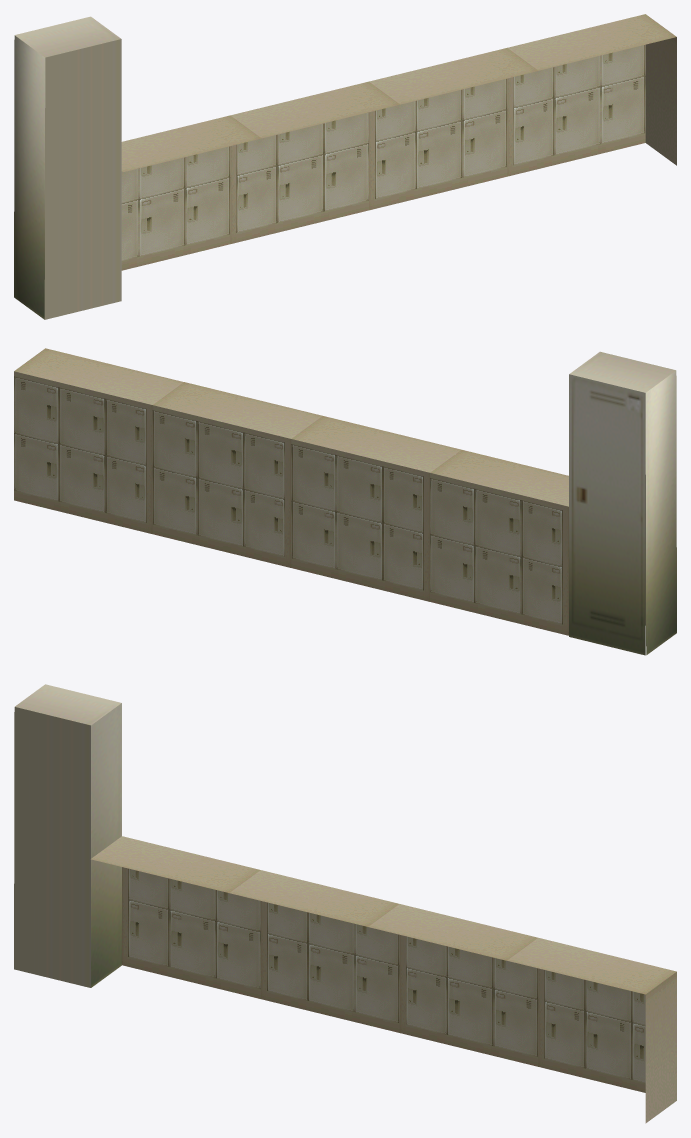
3 renders of one model, top to bottom at view 1: azimuth 30°, elevation 25°; view 2: azimuth 150°, elevation 25°; view 3: azimuth 330°, elevation 25°, orthographic.
Visible parts, largest first — view 1: store_shelf, store1; view 2: store_shelf, store1; view 3: store_shelf, store1.
Part boxes in pixels (left/top/right/bottom): store_shelf: left=121, top=14, right=676, bottom=270; store1: left=14, top=16, right=121, bottom=319; store_shelf: left=14, top=348, right=568, bottom=635; store1: left=569, top=351, right=676, bottom=655; store_shelf: left=91, top=836, right=676, bottom=1123; store1: left=14, top=684, right=121, bottom=987.
Bounding box in the file's own units: 470 × 186 × 41.1.
